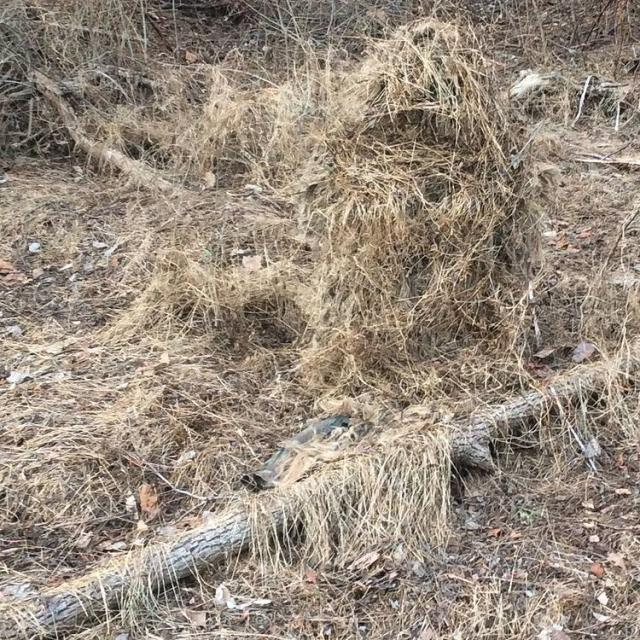Camouflage: (291, 19, 536, 461)
